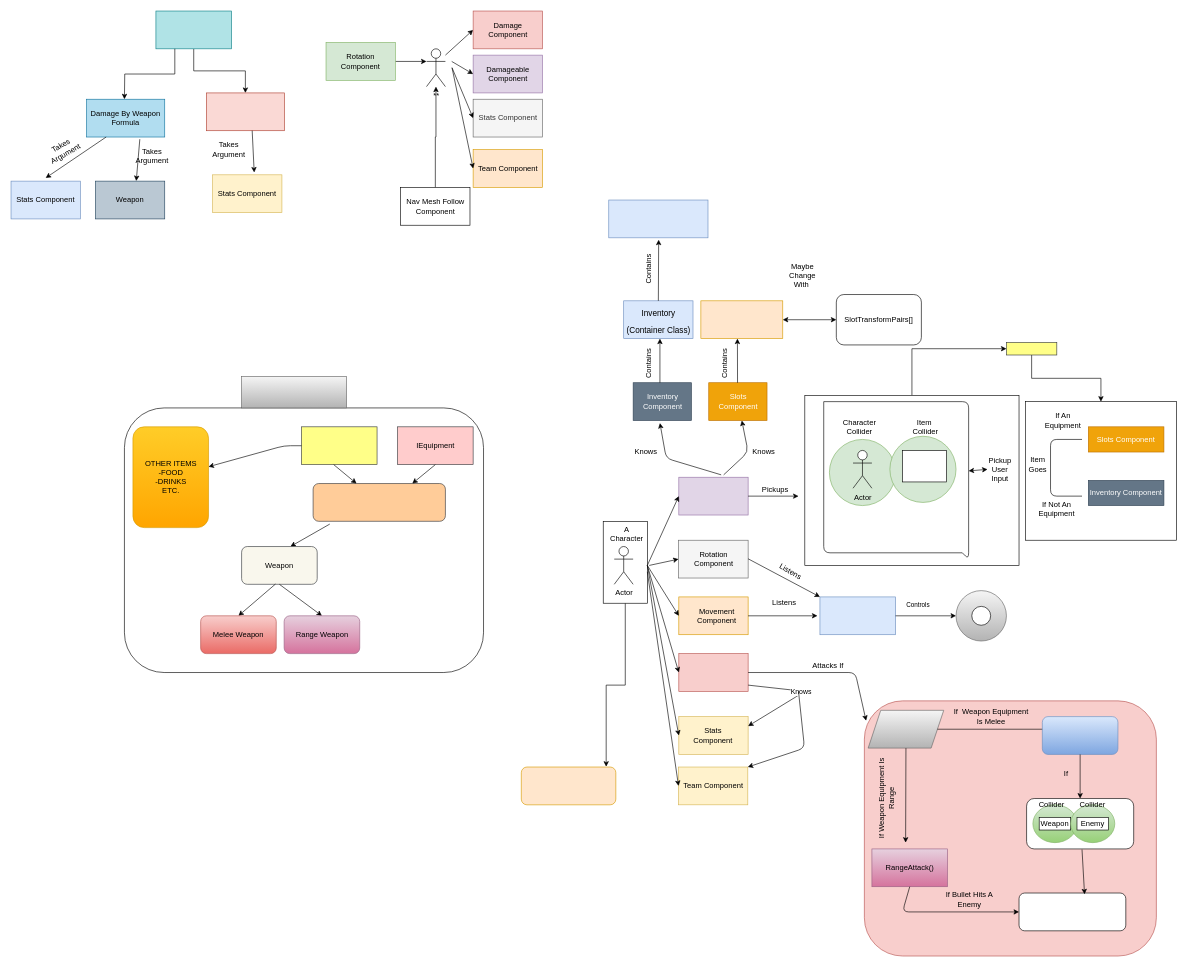
This 1188x967 diagram has some shape labels left out. The centre of each missing label's shape, as x and y in pixels:
"Atack Component" goes at point (713, 672).
"Attack User Input" goes at point (906, 729).
"Basic Damage Formula" goes at point (245, 111).
"Damage To Enemy (Amount of A Damage Formula)" goes at point (1072, 911).
"DamageableComponent" goes at point (568, 785).
"EquipableItem :Item, IEquipment" goes at point (378, 502).
"IDamageFormula" goes at point (193, 29).
"If Both Is True" goes at point (1031, 348).
"Item (Default Pickupable)" goes at point (924, 466).
"Item Chain" goes at point (293, 392).
"Item(Interface)" goes at point (339, 445).
"Joystick Control Component" goes at point (857, 615).
"List<Item> inventoryItems;" goes at point (658, 218).
"LİST<Slot> List<SlotTransforms>" goes at point (741, 319).
"MeleeAttack()" goes at point (1080, 735).
"Pickup Component" goes at point (713, 496).
